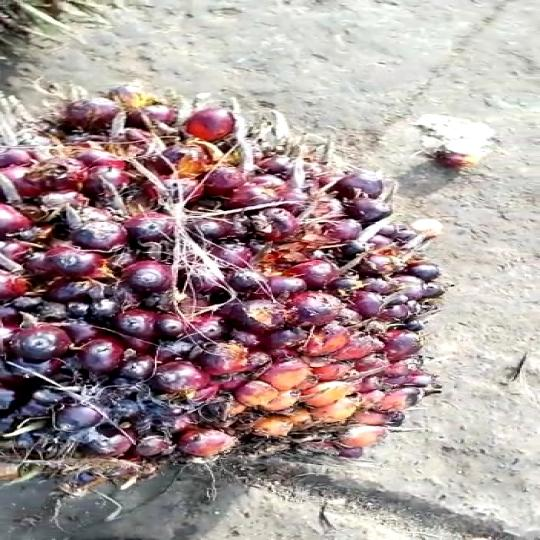masak: (0, 84, 443, 483)
